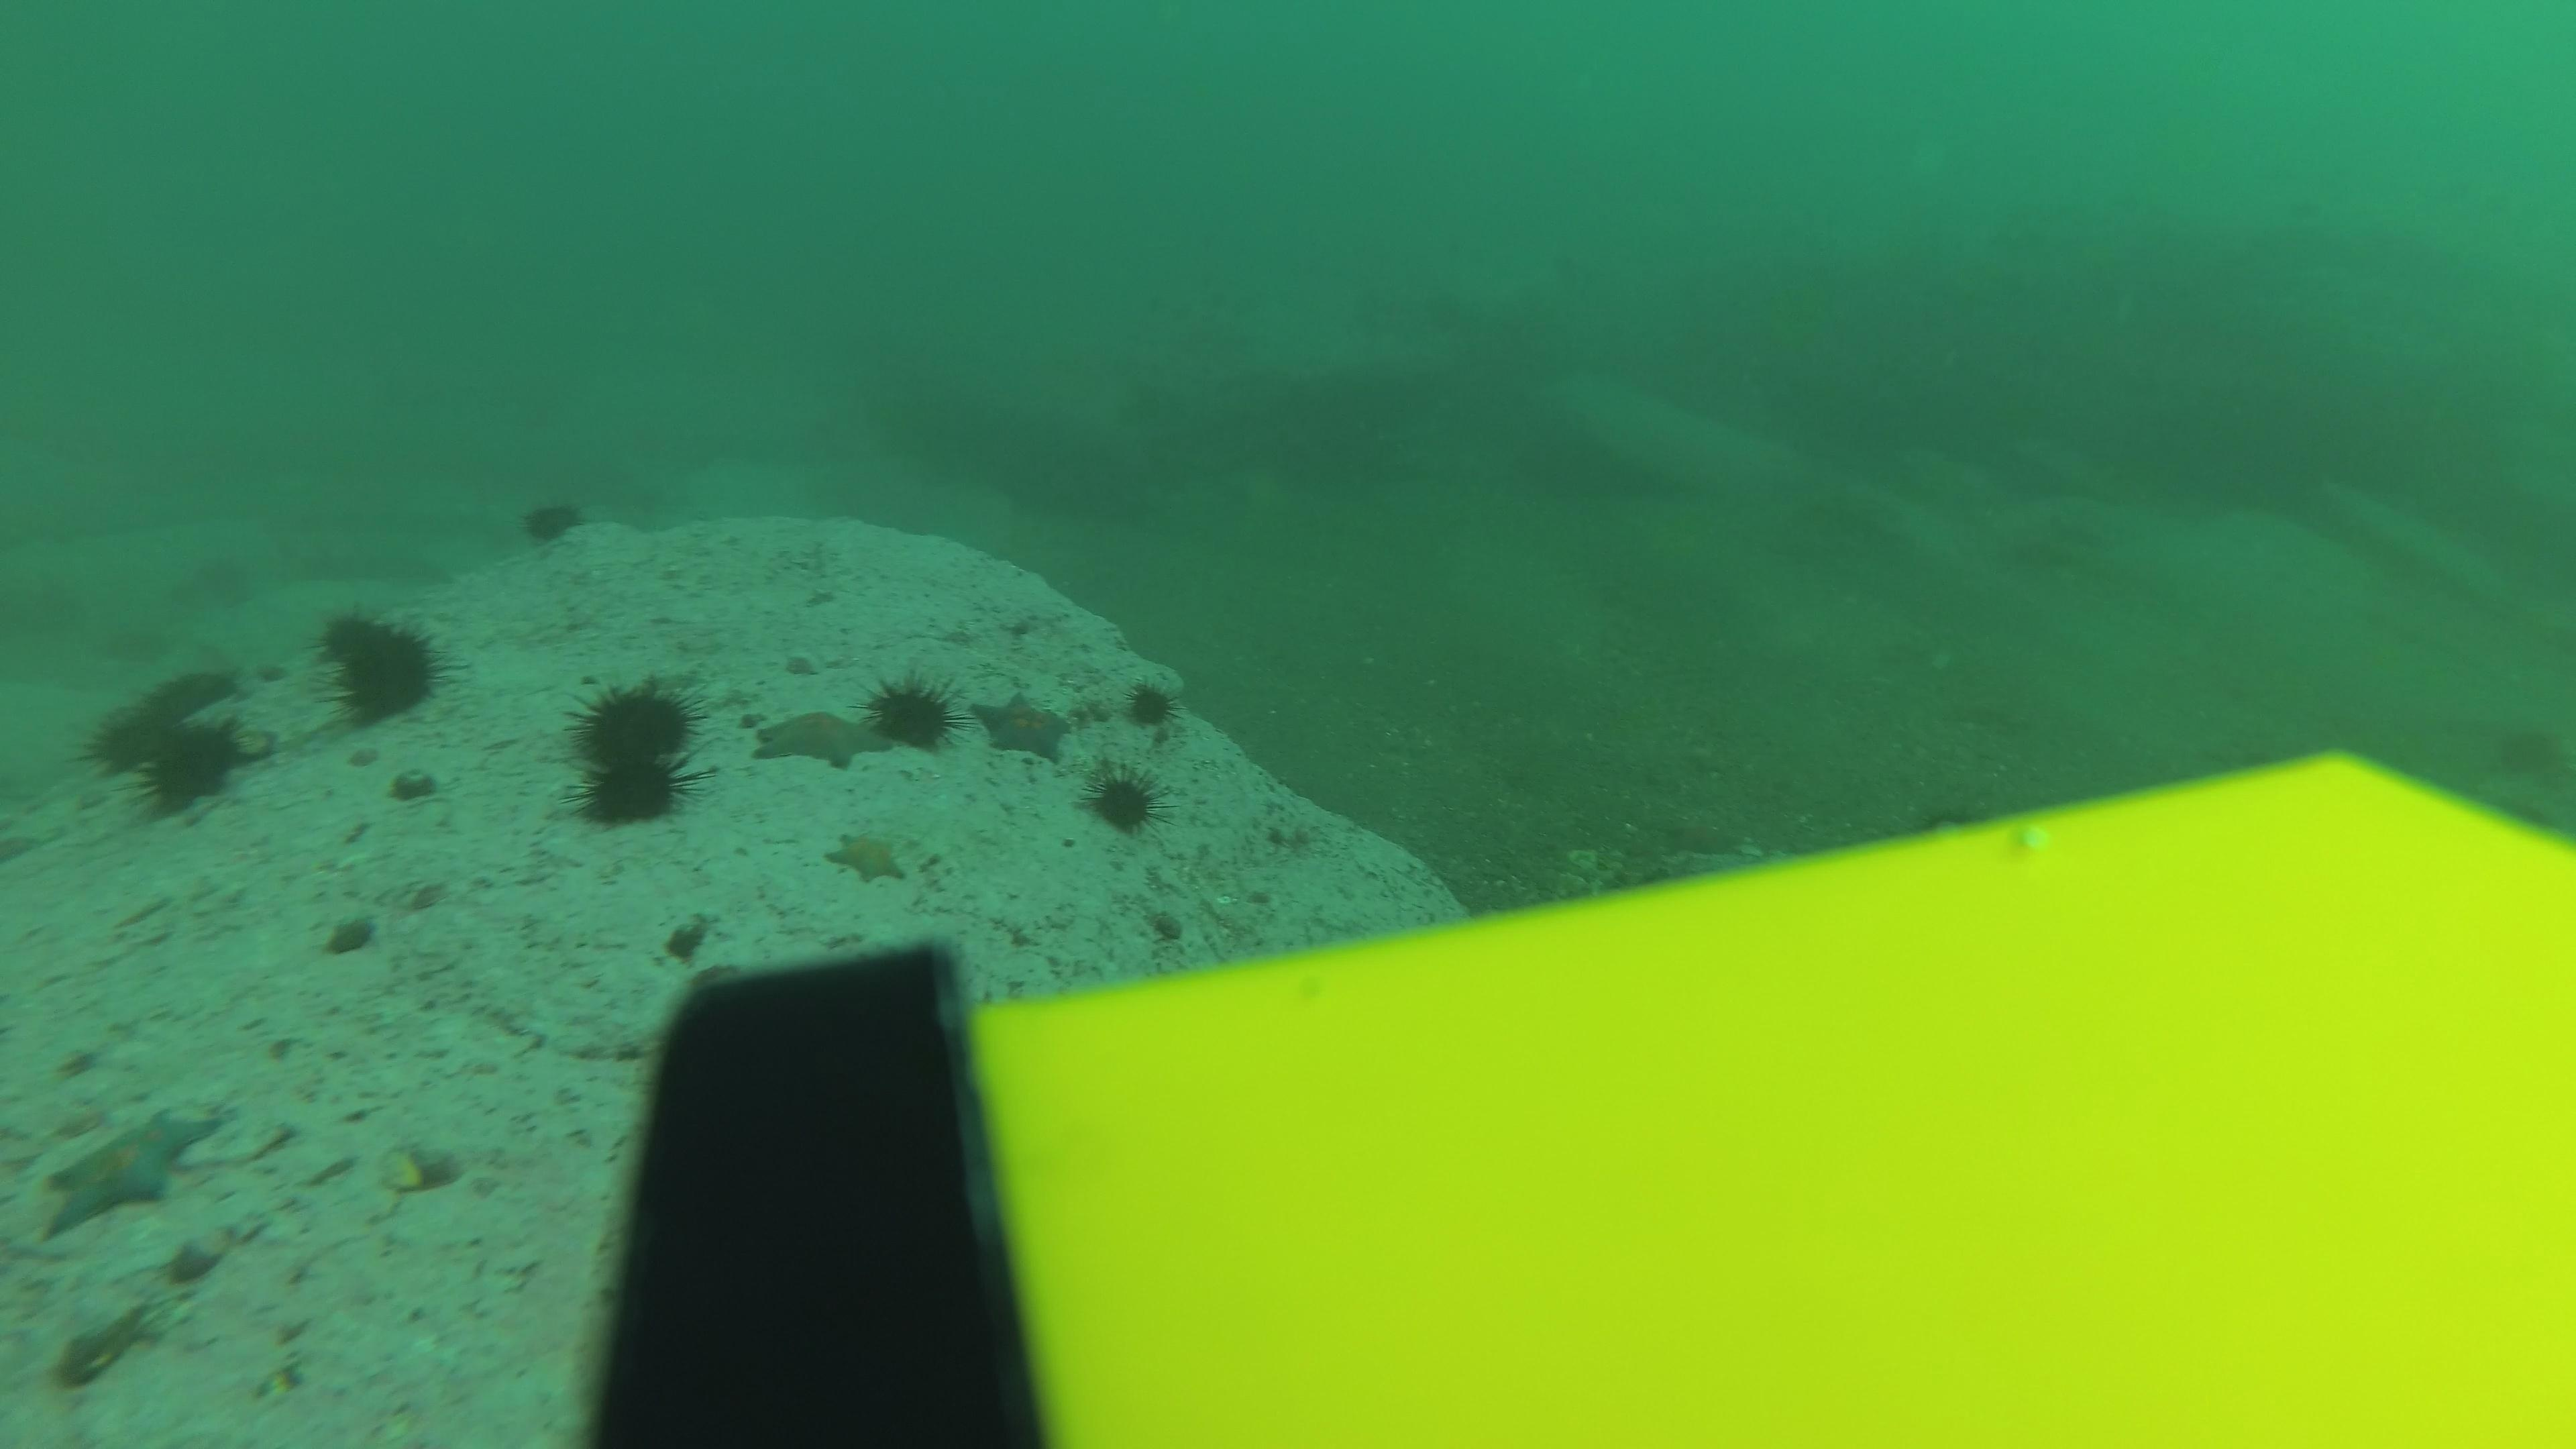echinus: (577, 750, 709, 858), (563, 672, 694, 780), (120, 711, 253, 812), (41, 681, 173, 782), (127, 639, 260, 740), (326, 619, 444, 724), (862, 671, 961, 755), (297, 596, 396, 676), (1081, 763, 1162, 837), (517, 492, 587, 548), (1122, 672, 1184, 732)
starfish: (34, 1099, 230, 1237), (747, 706, 892, 773), (971, 692, 1076, 766), (823, 826, 913, 886)
